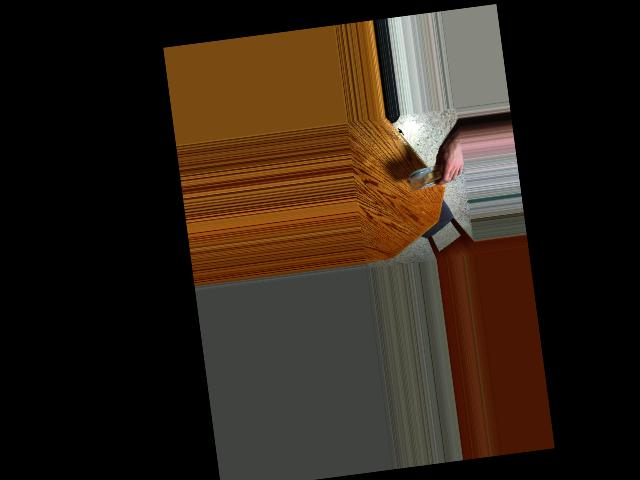cheese: (404, 145, 457, 199)
